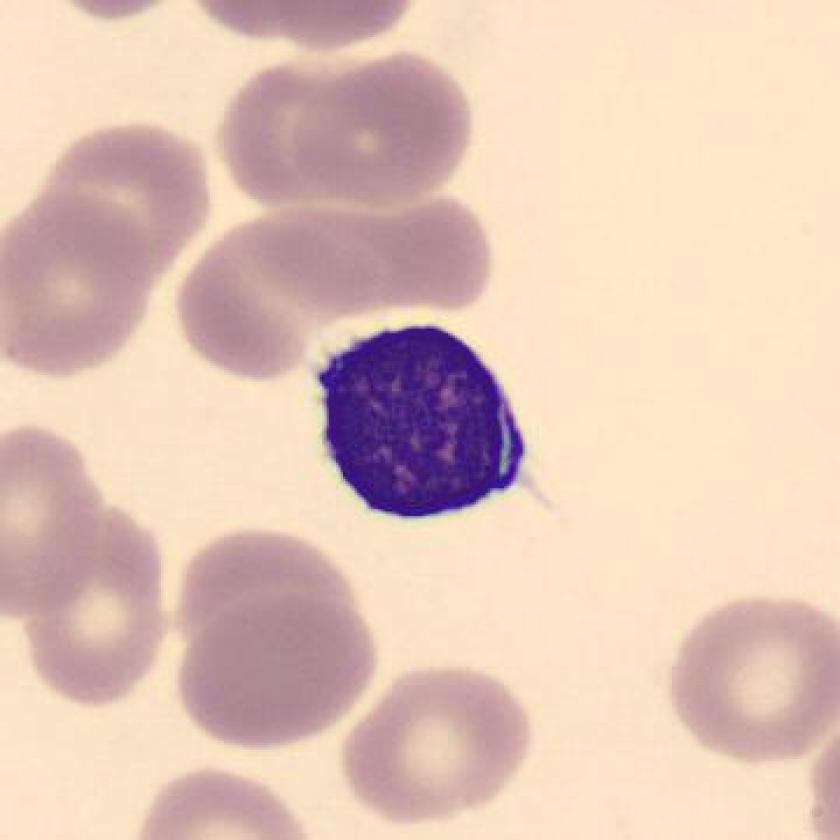lymphocyte: (293, 307, 538, 550)
